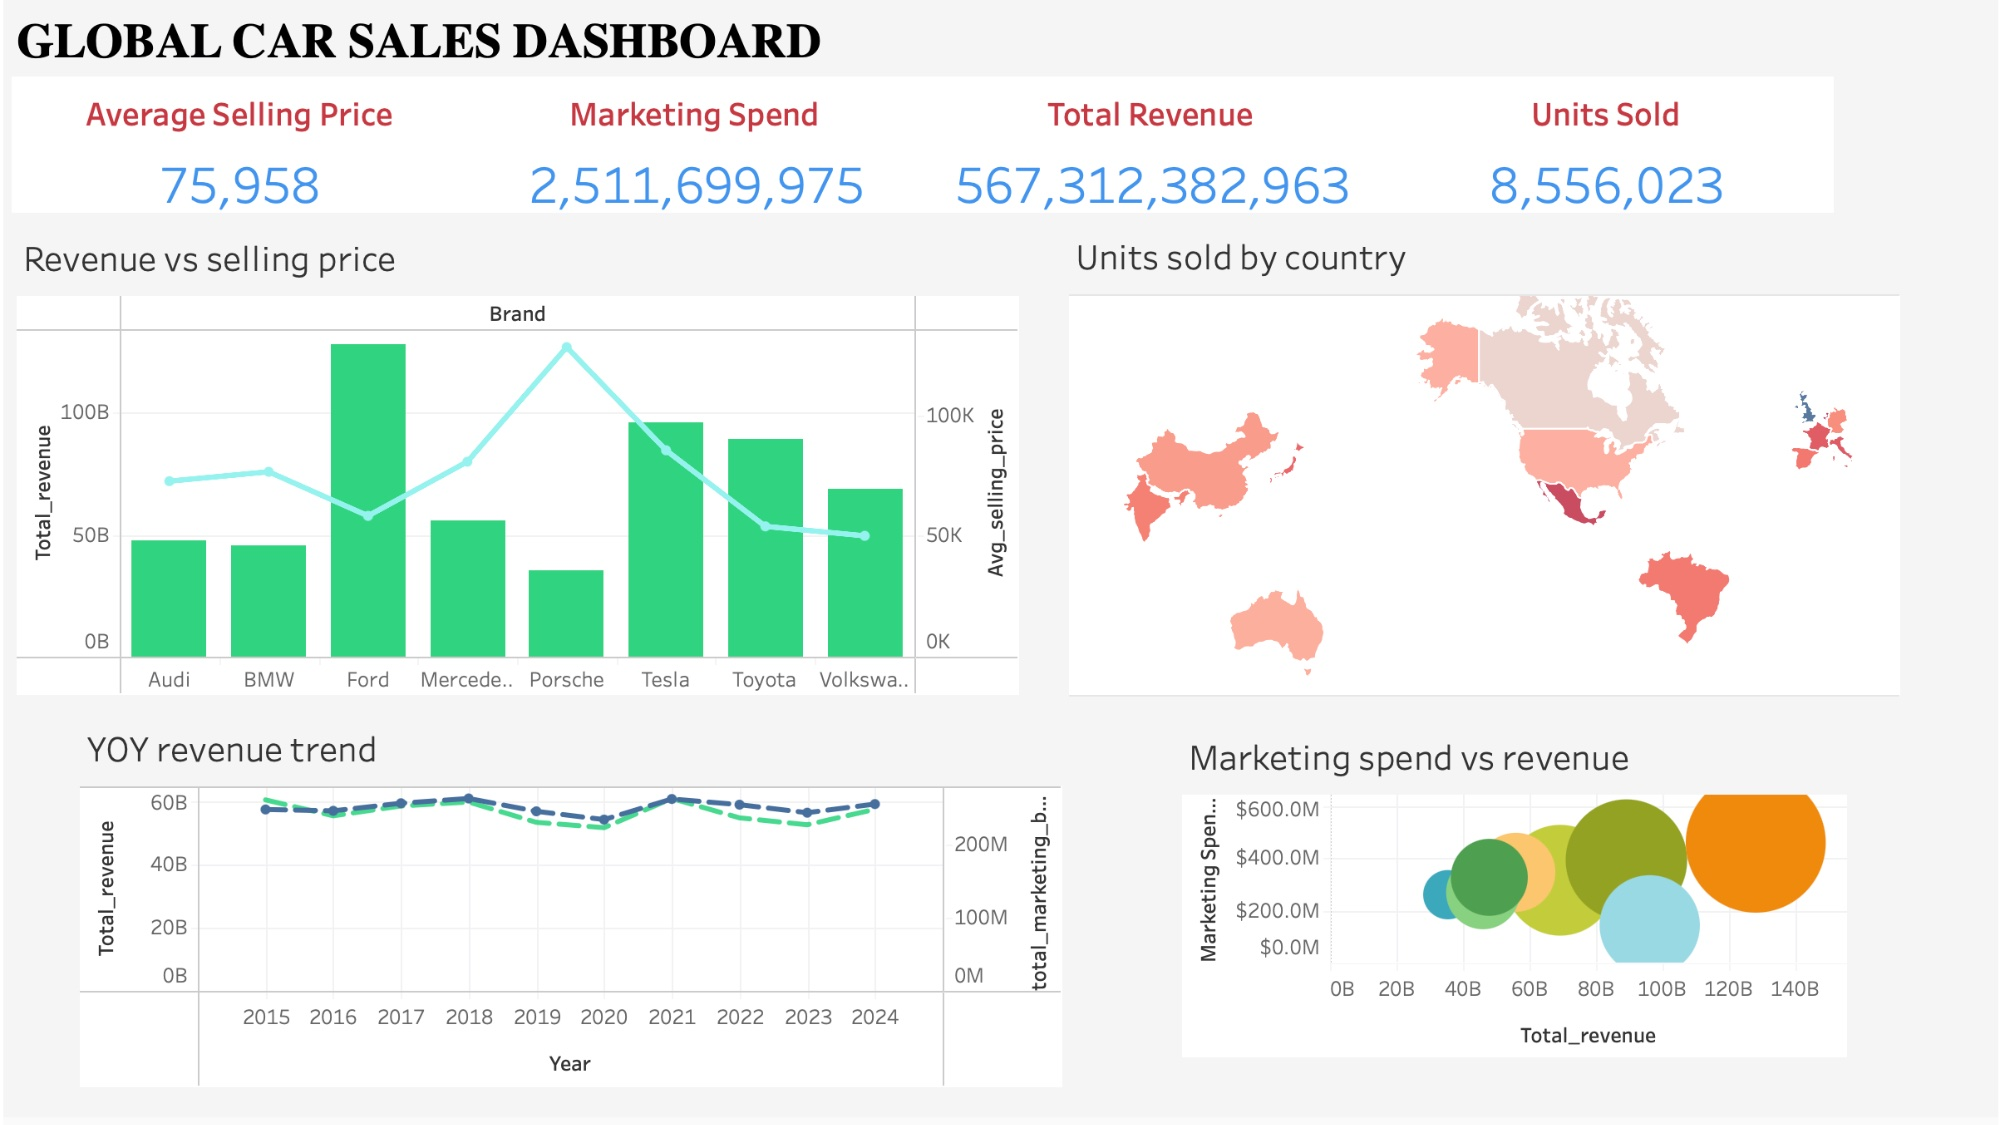

Layout of this report page (visuals, bound fields, positions):
{"tool":"tableau","page":{"name":"Dashboard 1","canvas":[1000,1000],"units":"permille","ordinal":0},"visuals":[{"type":"text","box":[6.7,9.5,981.7,59.6]},{"type":"worksheet","title":"KPIS","mark":"Automatic","box":[4.2,69.1,993.3,123.3]},{"type":"worksheet","title":"Units sold by country","mark":"Multipolygon","box":[534.2,200.5,416.7,424.1]},{"type":"worksheet","title":"Revenue vs selling price","mark":"Bar","rows":["Calculation_3871195776052846592","Calculation_3871195776052953089"],"cols":["brand"],"box":[6.7,201.9,502.5,421.4]},{"type":"worksheet","title":"YOY revenue trend","mark":"Line","rows":["Calculation_3871195776052846592","Calculation_3871195776053047298"],"cols":["year"],"box":[38.3,640.9,492.5,332]},{"type":"worksheet","title":"Marketing spend vs revenue","mark":"Circle","rows":["marketing_spend_usd"],"cols":["Calculation_3871195776052846592"],"box":[590.8,647.7,333.3,299.5]}]}

Visuals, with their boxes on the dashboard's canvas, which has no fixed pixel size, in thousandths of its width and height (x1, y1, x2, y2). These are canvas units, not pixel positions in the 2000x1125 screenshot, which may show the page scaled, cropped or inside an application window:
text: box(7, 10, 988, 69)
"KPIS" worksheet: box(4, 69, 998, 192)
"Units sold by country" worksheet (Multipolygon marks): box(534, 200, 951, 625)
"Revenue vs selling price" worksheet (Bar marks): box(7, 202, 509, 623)
"YOY revenue trend" worksheet (Line marks): box(38, 641, 531, 973)
"Marketing spend vs revenue" worksheet (Circle marks): box(591, 648, 924, 947)
